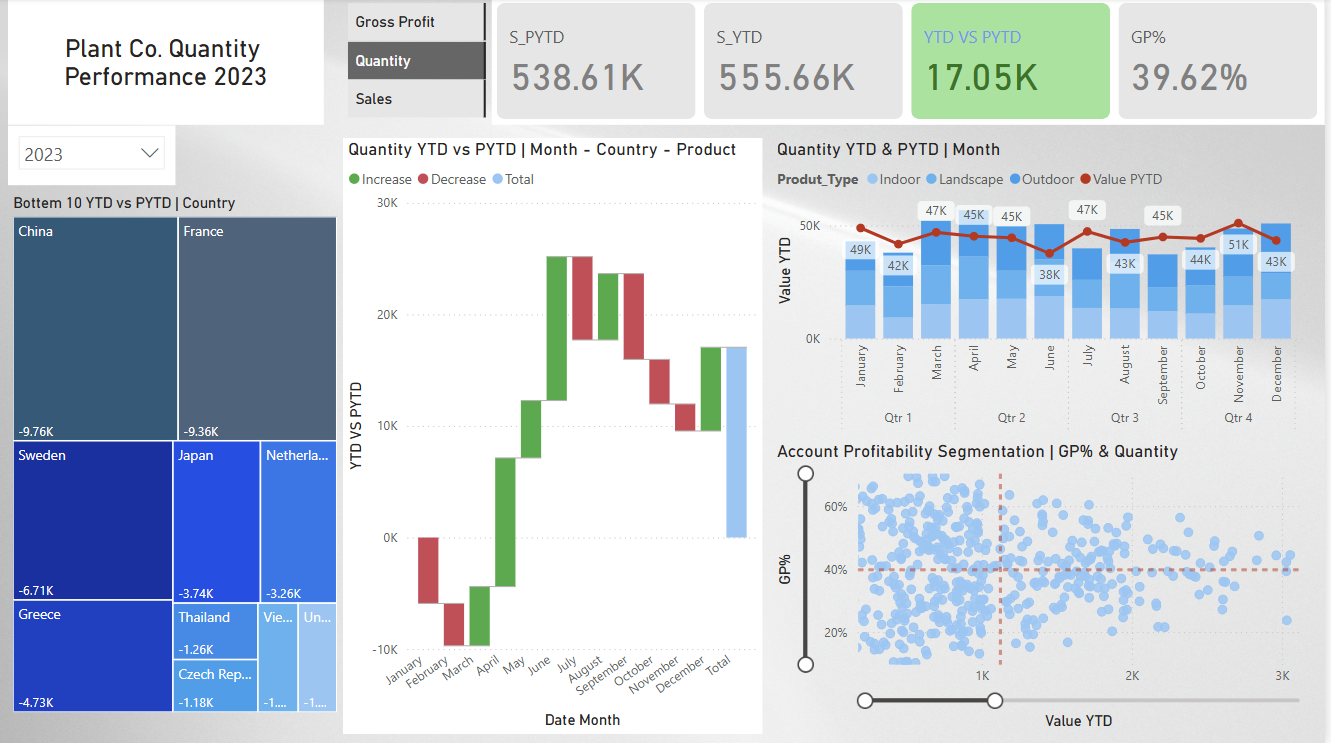

What the dashboard file says about the page in this screenshot:
{"tool":"powerbi","page":{"name":"Performance Report","canvas":[1280,720],"ordinal":0},"visuals":[{"type":"cardVisual","fields":{"Data":["_Measures.S_PYTD","_Measures.S_YTD","_Measures.YTD VS PYTD","_Measures.GP%"]},"box":[476.2,0,803.8,122.5],"z":0},{"type":"advancedSlicerVisual","fields":{"Values":["Slc_Values.Values"]},"box":[332.5,0,143.8,122.5],"z":1000},{"type":"slicer","fields":{"Values":["Dim_Date.Date.Variation.Date Hierarchy.Year"]},"box":[10,122.5,161.2,57.5],"z":2000},{"type":"treemap","title":"Bottem 10 YTD vs PYTD | Country","fields":{"Group":["Dim_Account.country"],"Values":["_Measures.YTD VS PYTD"]},"box":[10,190,322.5,505],"z":3000},{"type":"waterfallChart","fields":{"Y":["_Measures.YTD VS PYTD"],"Category":["Dim_Date.Date.Variation.Date Hierarchy.Month","Dim_Account.country","Dim_Product.Produt_Type","Dim_Product.Product_Name"]},"box":[332.5,135,405,575],"z":4000},{"type":"lineStackedColumnComboChart","fields":{"Y":["_Measures.S_YTD"],"Y2":["_Measures.S_PYTD"],"Category":["Dim_Date.Date.Variation.Date Hierarchy.Quarter","Dim_Date.Date.Variation.Date Hierarchy.Month"],"Series":["Dim_Product.Produt_Type"]},"box":[746.2,135,521.2,292.5],"z":5000},{"type":"scatterChart","fields":{"Y":["_Measures.GP%"],"X":["_Measures.S_YTD"],"Category":["Dim_Account.Account"]},"box":[746.2,427.5,521.2,282.5],"z":6000},{"type":"card","fields":{"Values":["_Measures._Report title"]},"box":[10,0,305,122.5],"z":6001}]}

Visuals, with their boxes in screenshot pixels (x1, y1, x2, y2), scaled from the page's 1280x720 canvas onto the 1331x743 screenshot:
cardVisual - _Measures.S_PYTD x _Measures.S_YTD: [left=495, top=0, right=1330, bottom=126]
advancedSlicerVisual - Slc_Values.Values: [left=346, top=0, right=495, bottom=126]
slicer - Dim_Date.Date.Variation.Date Hierarchy.Year: [left=10, top=126, right=178, bottom=186]
"Bottem 10 YTD vs PYTD | Country" treemap: [left=10, top=196, right=346, bottom=717]
waterfallChart - _Measures.YTD VS PYTD x Dim_Date.Date.Variation.Date Hierarchy.Month: [left=346, top=139, right=767, bottom=733]
lineStackedColumnComboChart - _Measures.S_YTD x _Measures.S_PYTD: [left=776, top=139, right=1318, bottom=441]
scatterChart - _Measures.GP% x _Measures.S_YTD: [left=776, top=441, right=1318, bottom=733]
card - _Measures._Report title: [left=10, top=0, right=328, bottom=126]
